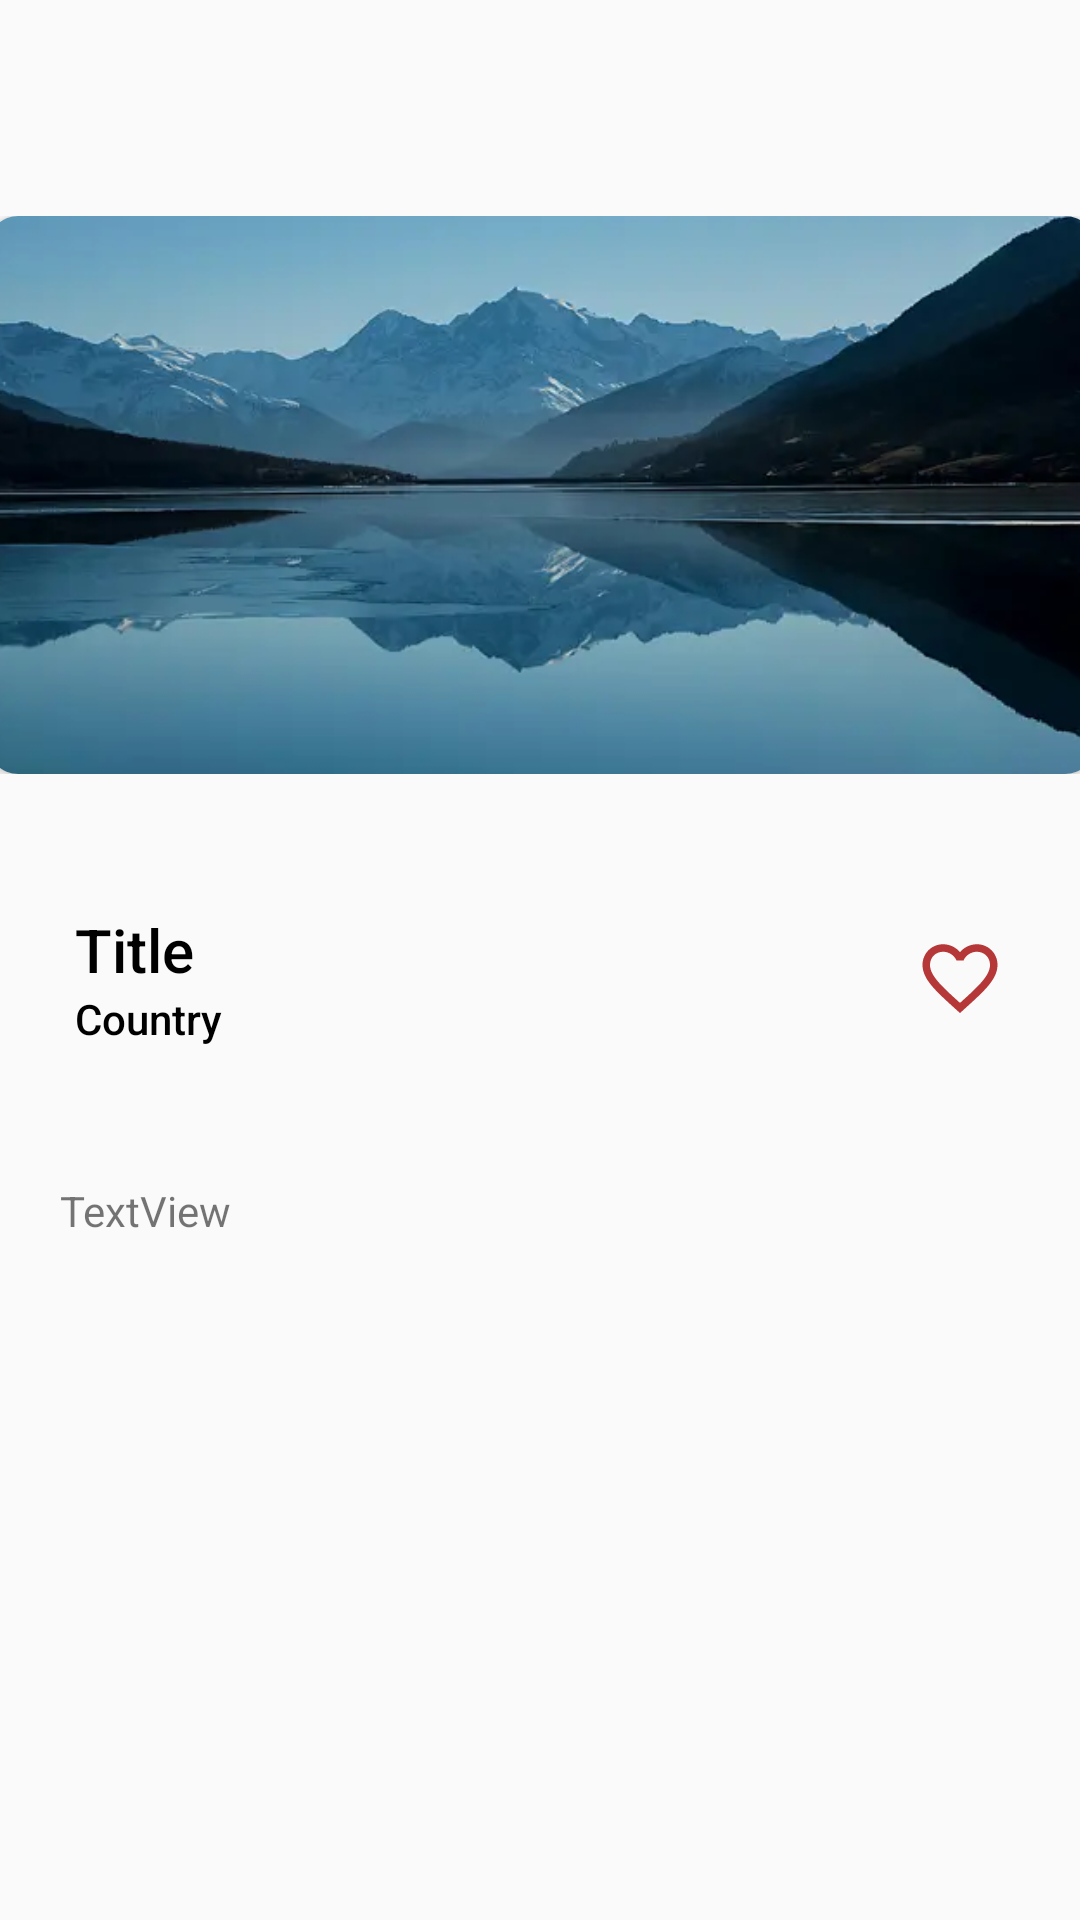

Icon bounding boxes for this 1080*1920 phone screenshot, format (x1, y1, x2, y2):
favorite border: (922, 944, 998, 1013)
